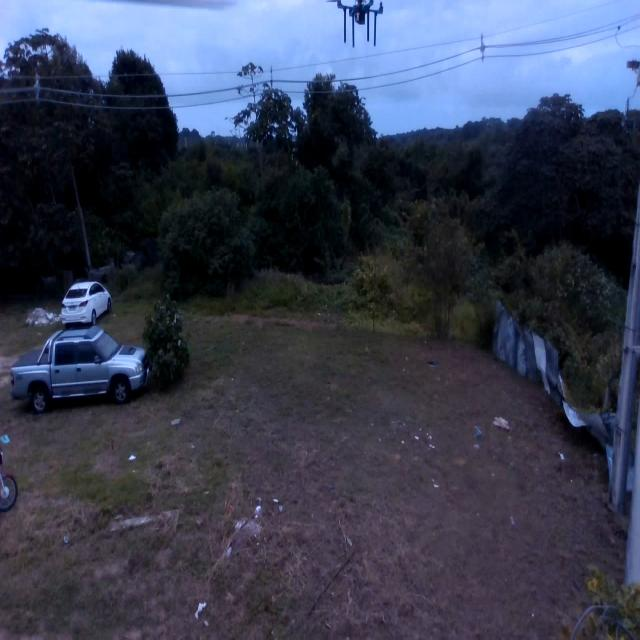-uav-: (332, 0, 388, 52)
